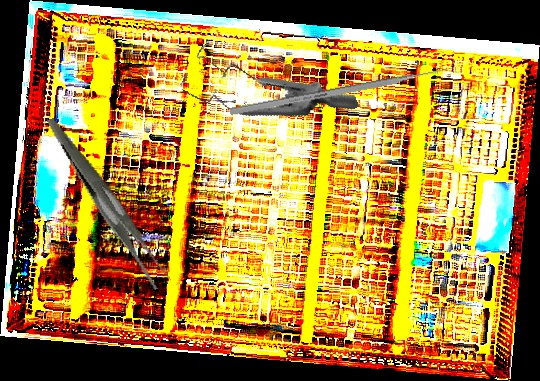Dressing Forceps: (46, 99, 173, 306)
Pusher: (229, 64, 457, 116)
Speculum: (169, 0, 360, 164)
